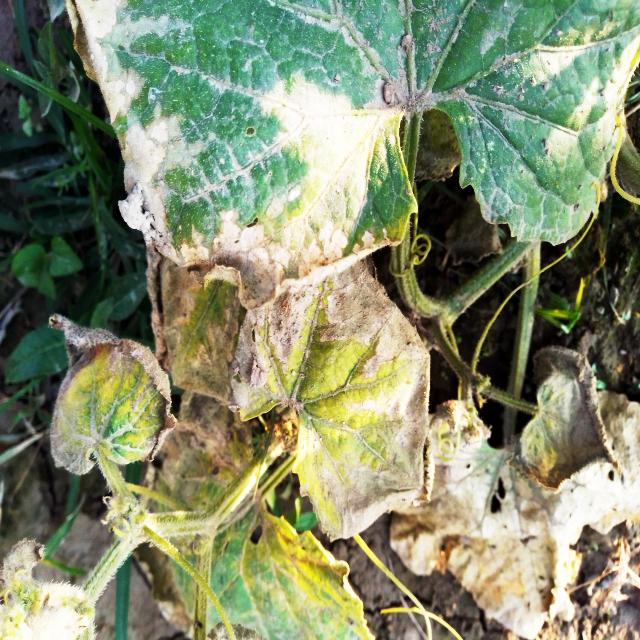Bacterial-Wilt: (383, 389, 640, 640)
